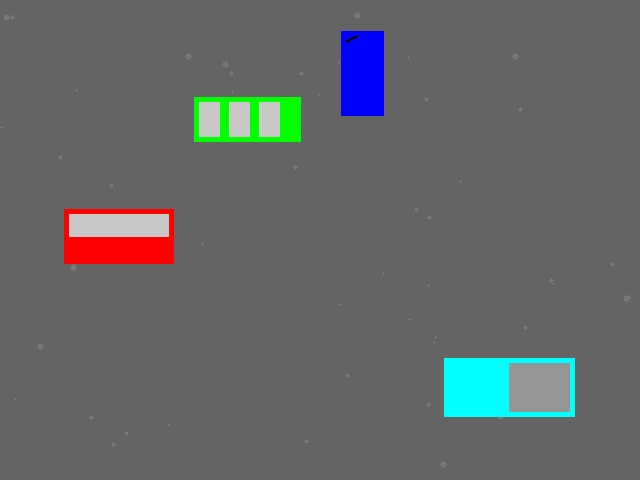bus: (194, 97, 300, 141)
car: (64, 209, 173, 263)
motorcycle: (341, 31, 383, 115)
truck: (444, 358, 574, 416)
